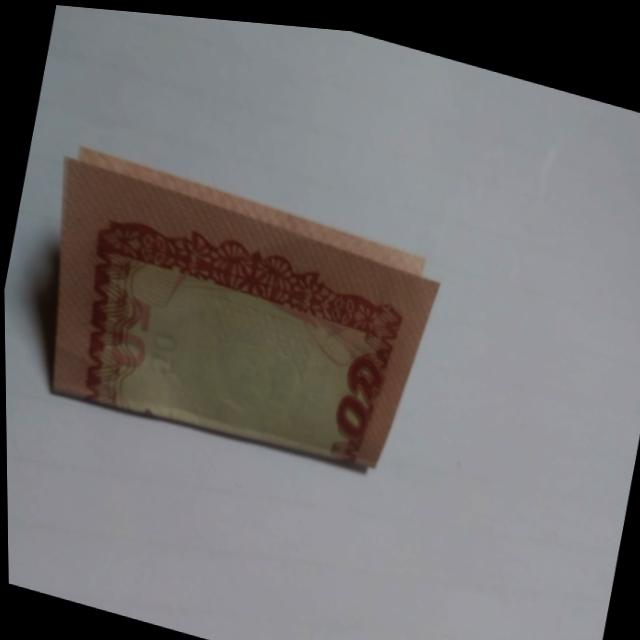Taka: (9, 121, 457, 515)
